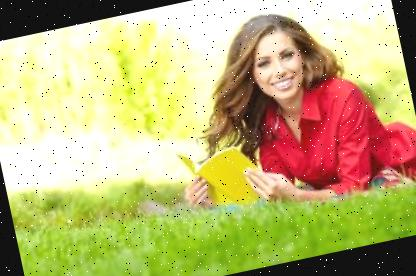person: (142, 0, 416, 233)
